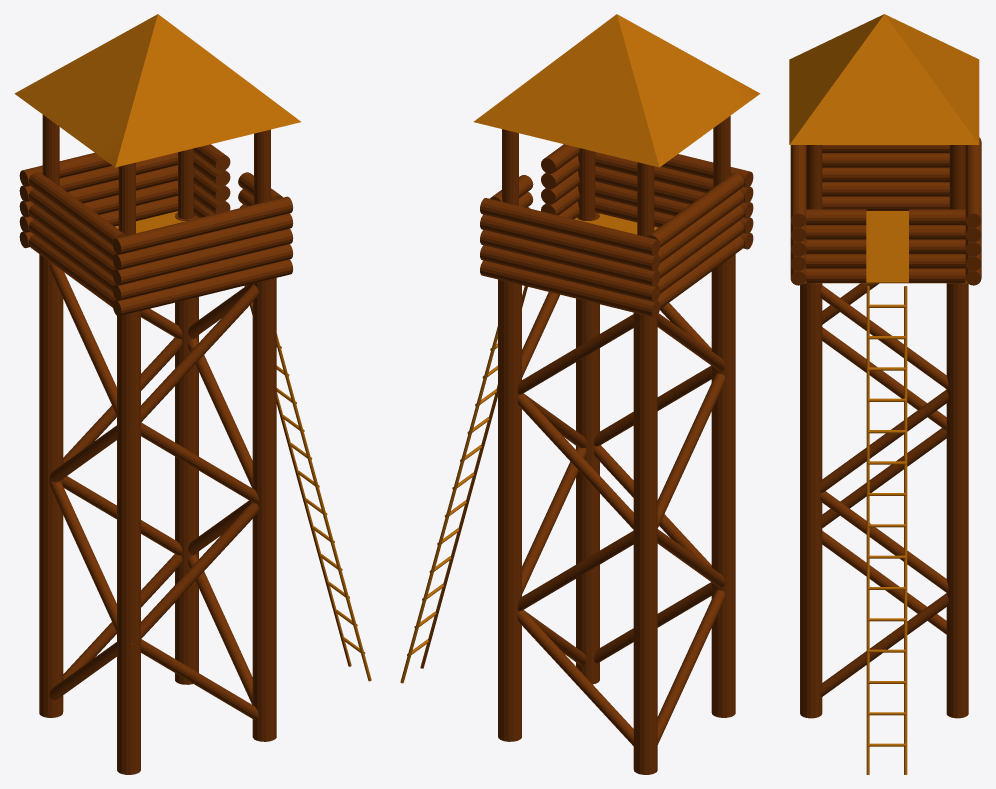
Rendered from tower.fbx.
3 views of the same model, side by side, from view 1: azimuth 30°, elevation 25°; view 2: azimuth 150°, elevation 25°; view 3: azimuth 270°, elevation 25° (orthographic). The views are drawn at different scales.
Visible parts, largest first — view 1: wieźa.120; view 2: wieźa.120; view 3: wieźa.120.
Part boxes in pixels (x1,y1,x2,y2): wieźa.120: (14,14,371,774); wieźa.120: (400,14,760,774); wieźa.120: (789,14,981,774).
Bounding box in the file's own units: 691 × 1576 × 410.
